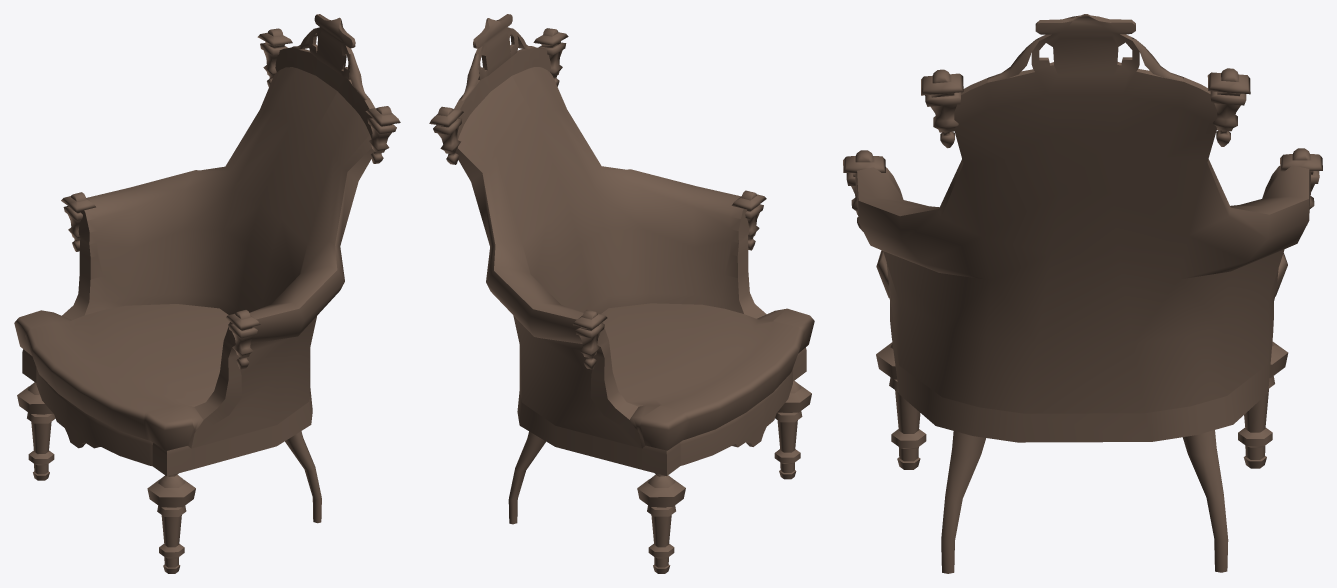
File: Parlor Chair.fbx
3 renders of one model, left to right at view 1: azimuth 30°, elevation 25°; view 2: azimuth 150°, elevation 25°; view 3: azimuth 270°, elevation 25°, orthographic. The views are drawn at different scales.
Parts seen in each view (by area): view 1: Parlor_Chair_01; view 2: Parlor_Chair_01; view 3: Parlor_Chair_01.
Boxes of the visible parts, box(x1,y1,x2,y2) form: Parlor_Chair_01: box(14, 14, 400, 573); Parlor_Chair_01: box(429, 14, 814, 573); Parlor_Chair_01: box(843, 14, 1322, 573).
Size of the model in its own units: 68.89 by 106 by 76.33.
